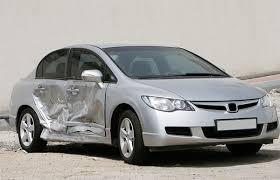RunningBoard-Dent: (42, 131, 107, 145)
doorouter-dent: (70, 65, 108, 139), (34, 64, 66, 132)
